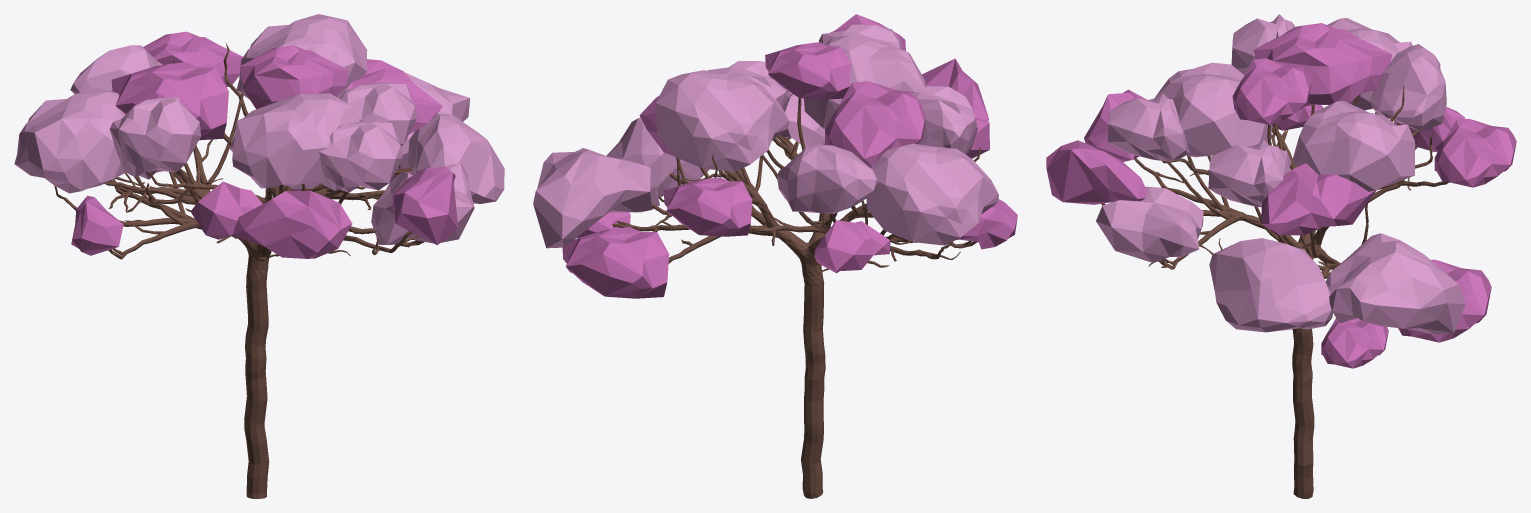
The model's file is fantasy_plant_045.fbx.
3 renders of one model, left to right at view 1: azimuth 30°, elevation 25°; view 2: azimuth 150°, elevation 25°; view 3: azimuth 270°, elevation 25°, orthographic. The views are drawn at different scales.
Visible parts, largest first — view 1: fantasy_plant.045; view 2: fantasy_plant.045; view 3: fantasy_plant.045.
Part boxes in pixels (<box>): fantasy_plant.045: <box>14,14,504,498</box>; fantasy_plant.045: <box>533,14,1017,498</box>; fantasy_plant.045: <box>1046,14,1516,498</box>.
Size of the model in its own units: 1837 by 1764 by 1725.
Materials: 1 (1 with a texture image).
